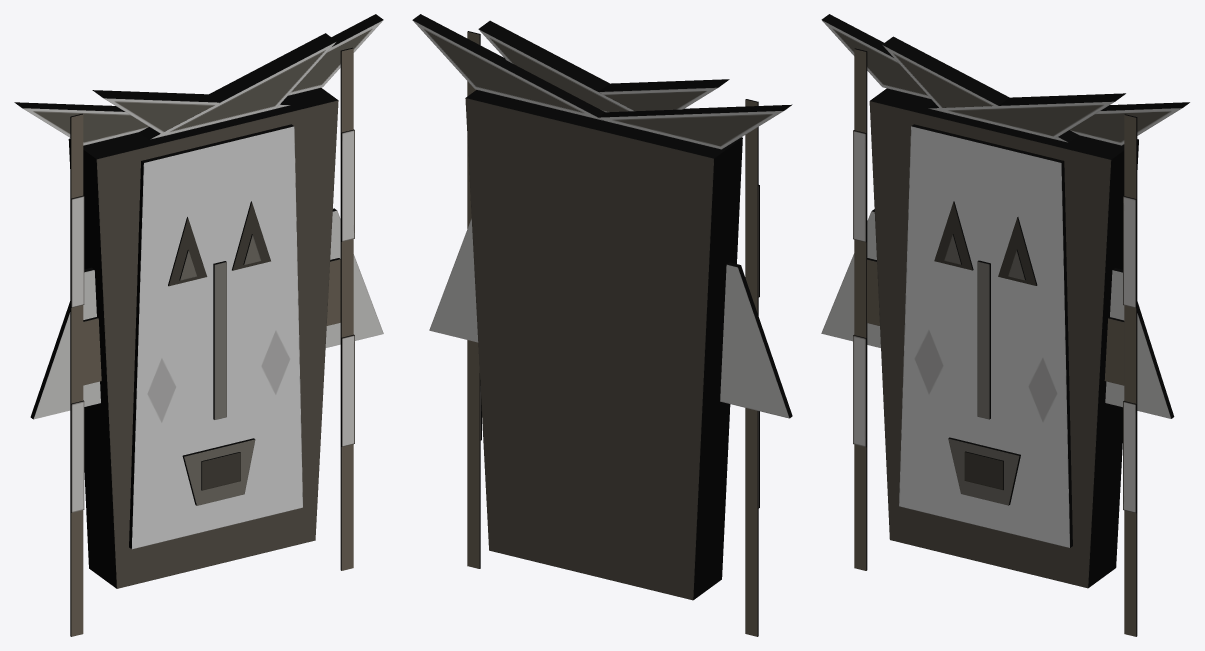
File: Mask1.fbx
3 renders of one model, left to right at view 1: azimuth 30°, elevation 25°; view 2: azimuth 150°, elevation 25°; view 3: azimuth 330°, elevation 25°, orthographic. The views are drawn at different scales.
Parts seen in each view (by area): view 1: Masks-3a-export; view 2: Masks-3a-export; view 3: Masks-3a-export.
Boxes of the visible parts, x1,y1,x2,y2 form: Masks-3a-export: (14,14,383,636); Masks-3a-export: (412,14,792,636); Masks-3a-export: (821,14,1189,636).
Size of the model in its own units: 98.97 by 139 by 15.67.
1 material, 1 textured.
